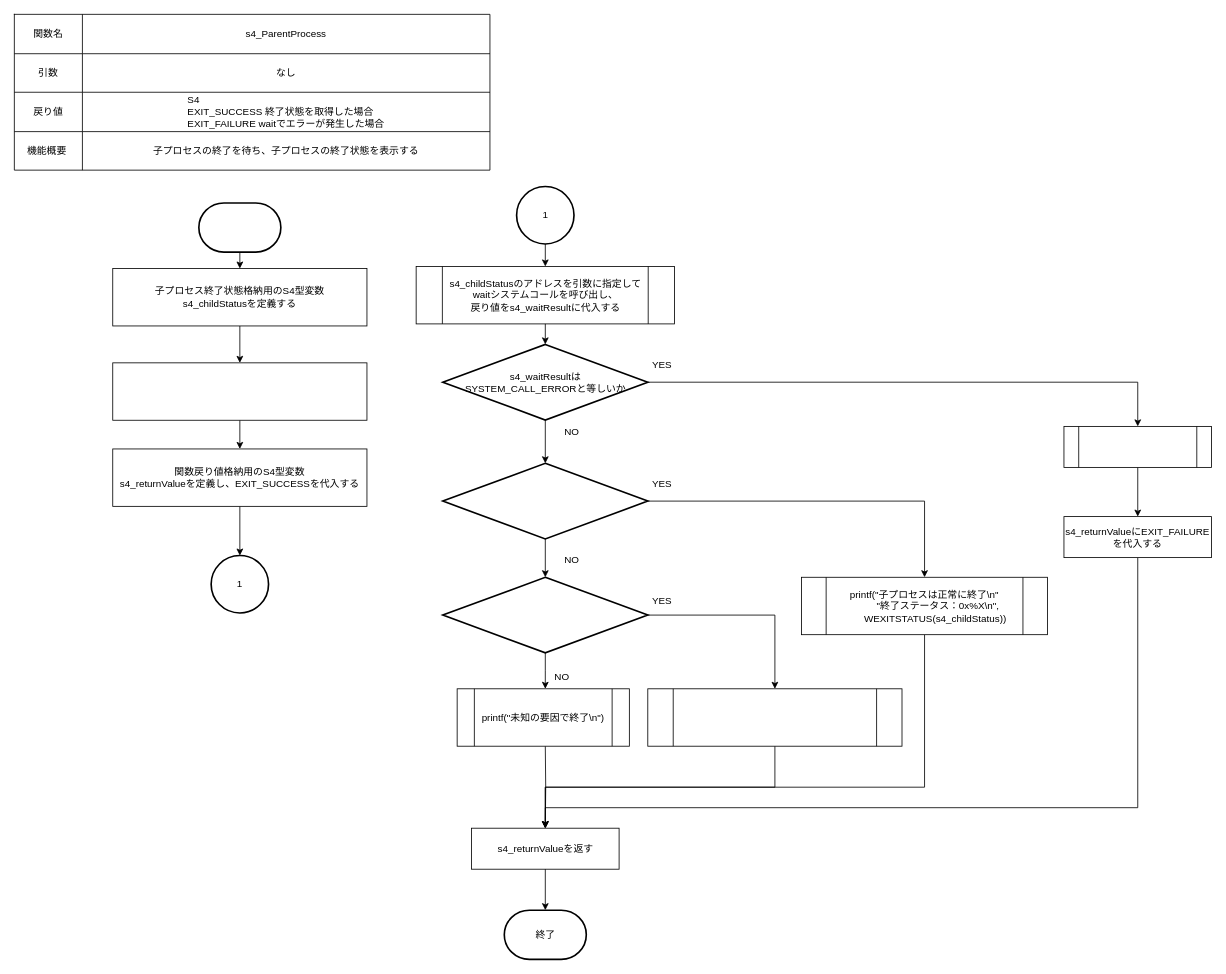
The diagram is 1226 pixels wide and 974 high, and some of its shapes have lost their labels. The shapes that lost their labels are listed below. From the top down, each one's box as (x1, y1, x2, y2) in pixels, then its label:
(198, 202, 281, 253): 開始
(112, 362, 367, 420): waitシステムコール戻り値格納用のS4型変数 s4_waitResultを定義する
(1063, 426, 1212, 467): perror("wait")
(442, 462, 648, 539): WIFEXITED(s4_childStatus)は真か？
(442, 576, 648, 653): WIFSIGNALED(s4_childStatus)は真か？
(647, 688, 902, 746): printf( " 子プロセスはシグナルによって終了 \n" "終了シグナル番号：%d\n", WTERMSIG(s4_childStatus) )
